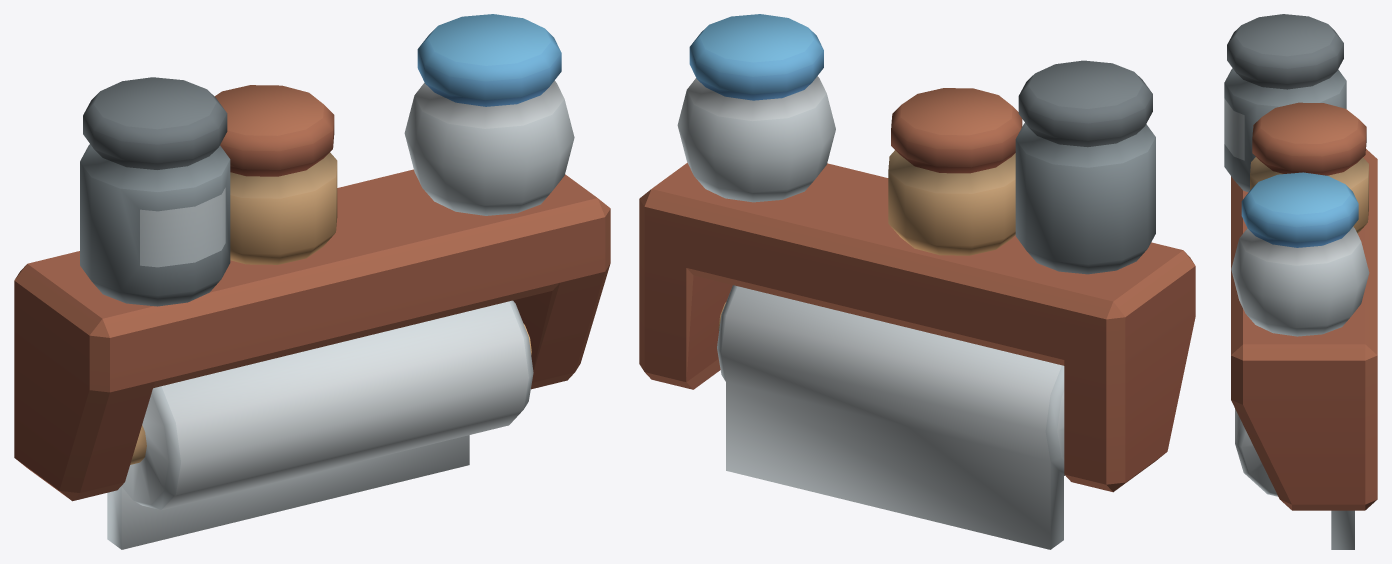
Rendered from shelf_papertowel_decorated.obj.
3 views of the same model, side by side, from view 1: azimuth 30°, elevation 25°; view 2: azimuth 150°, elevation 25°; view 3: azimuth 270°, elevation 25° (orthographic). The views are drawn at different scales.
Visible parts, largest first — view 1: shelf_papertowel_decorated_Cube.240; view 2: shelf_papertowel_decorated_Cube.240; view 3: shelf_papertowel_decorated_Cube.240.
Part boxes in pixels (<box>): shelf_papertowel_decorated_Cube.240: <box>14,14,610,549</box>; shelf_papertowel_decorated_Cube.240: <box>639,14,1195,549</box>; shelf_papertowel_decorated_Cube.240: <box>1224,14,1377,549</box>.
Size of the model in its own units: 2 by 1.71 by 0.6264.
Materials: 1 (1 with a texture image).
